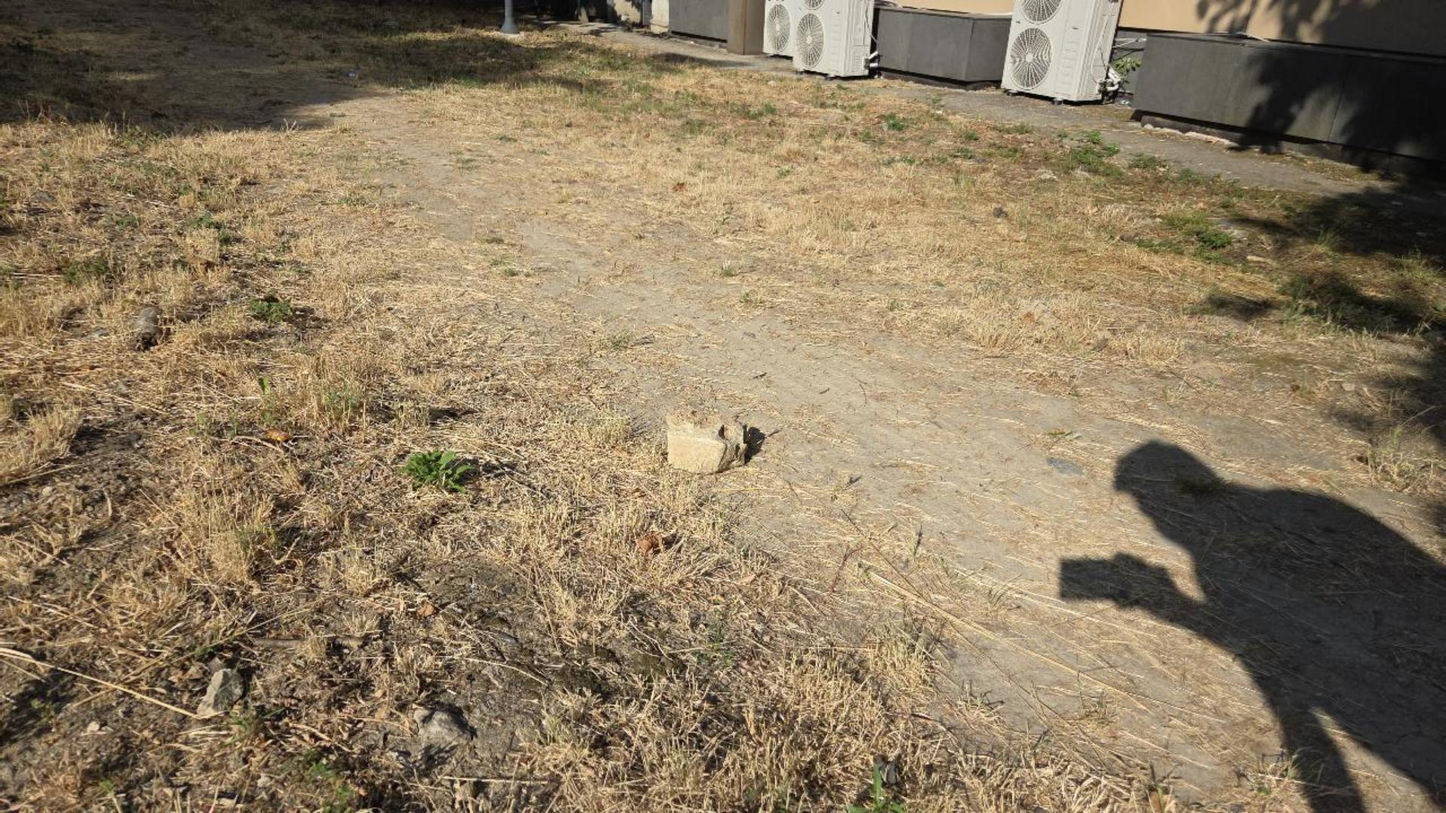rock: (667, 410, 746, 473), (413, 705, 473, 749), (197, 667, 244, 716)
